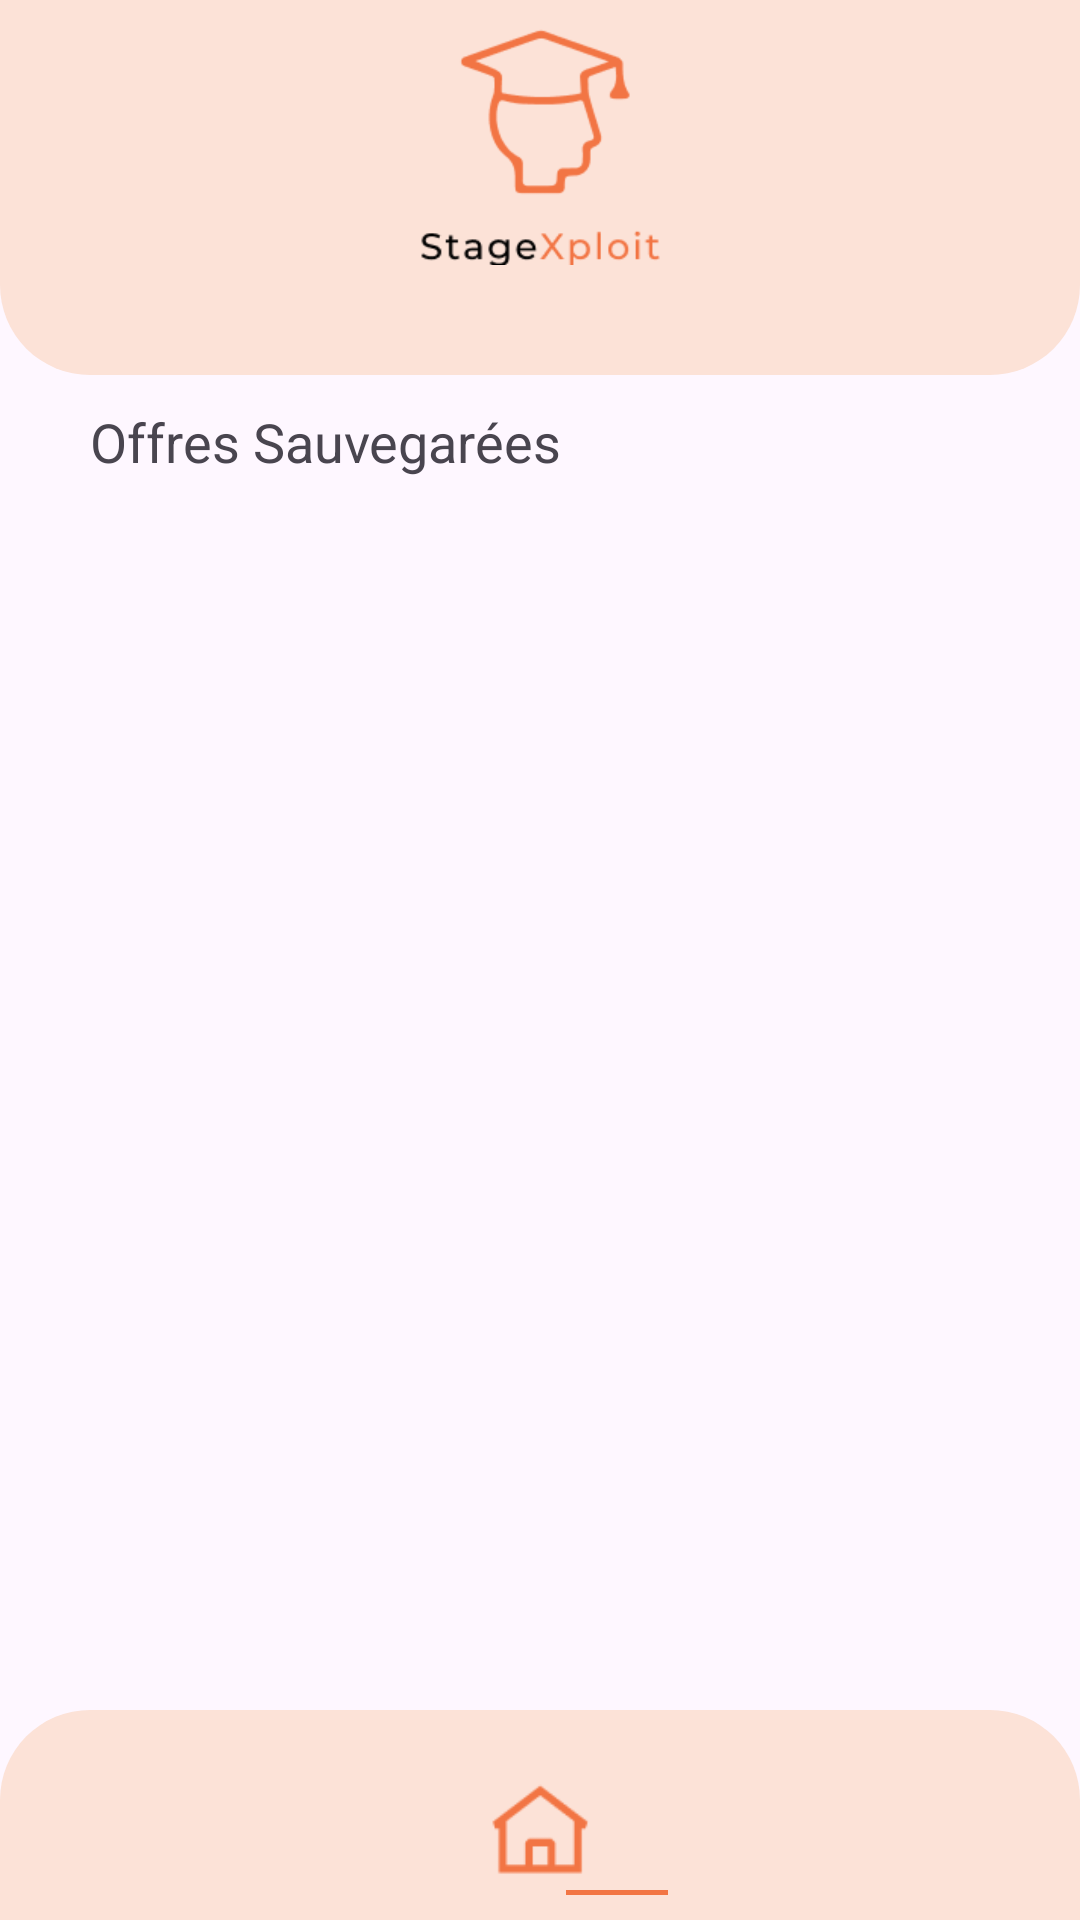

Locate icon controls on the screen. Image size 1080x1920, boxes as (x1, y1, x2, y2).
accueil: (492, 1786, 588, 1874)
